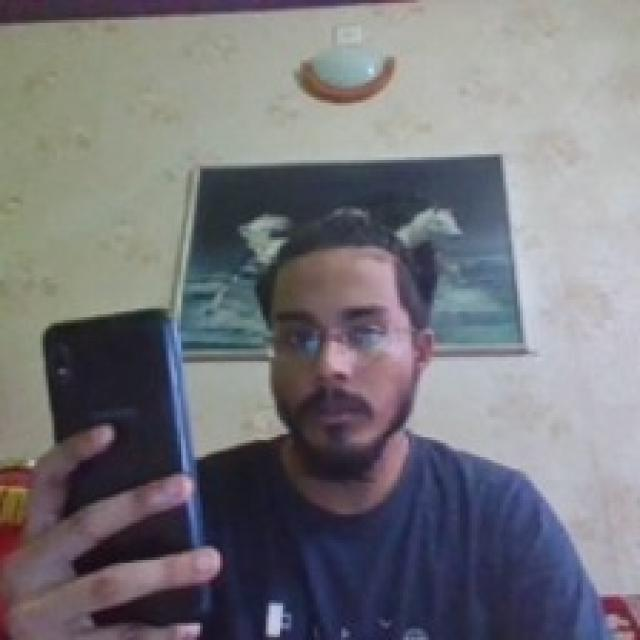Phone: (39, 306, 223, 630)
